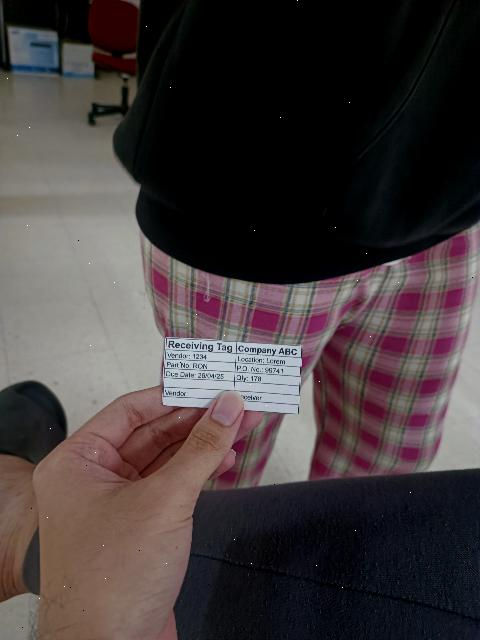PO no: (234, 363, 301, 377)
part no: (164, 359, 236, 372)
qty: (235, 371, 301, 386)
tags: (162, 337, 303, 414)
